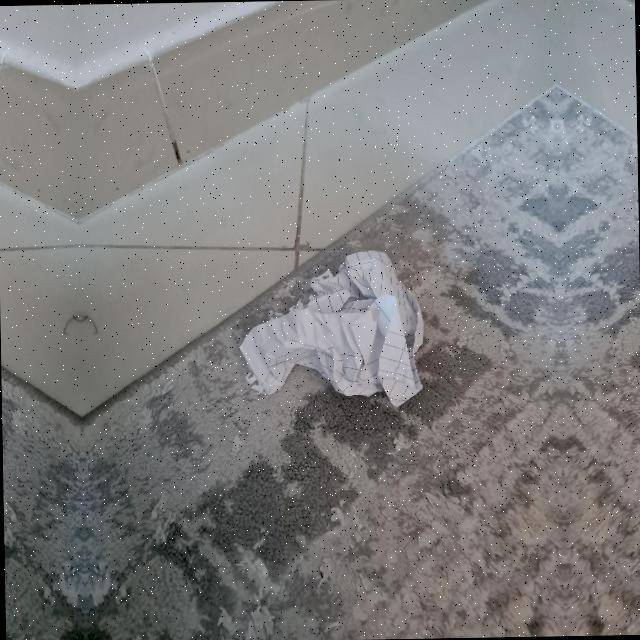paper: (233, 246, 433, 404)
